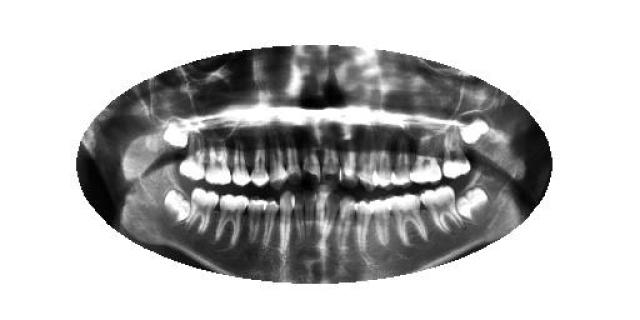Restorations: (455, 185, 491, 224), (161, 186, 194, 226)
